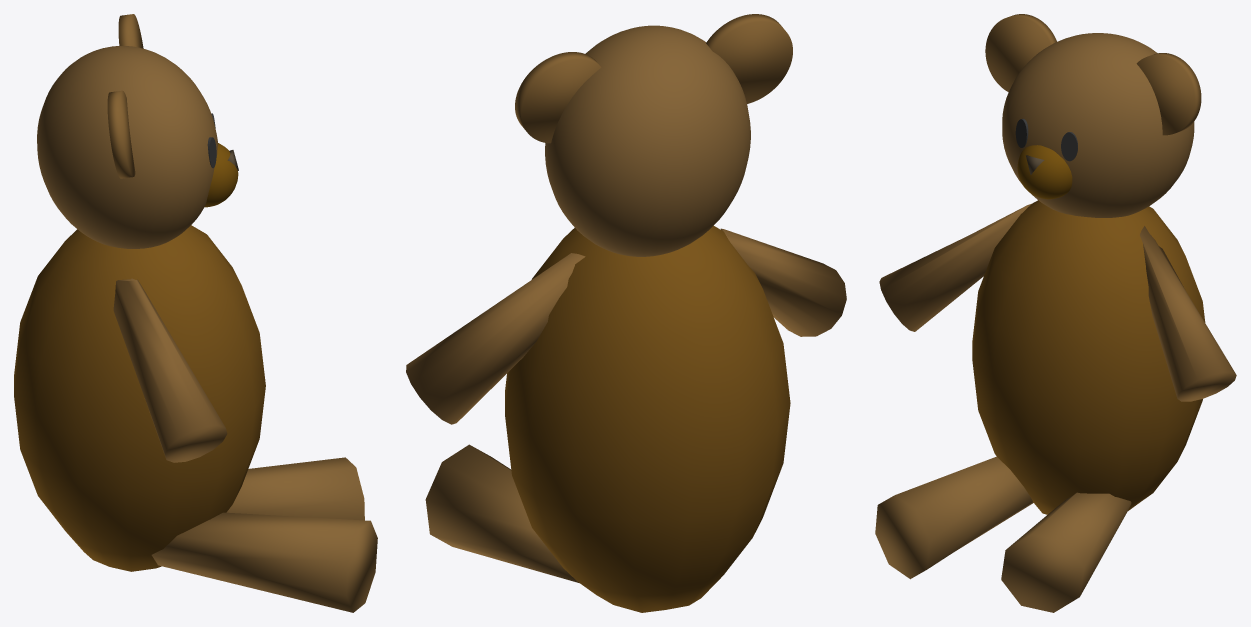
File: mis_.fbx
3 views of the same model, side by side, from view 1: azimuth 30°, elevation 25°; view 2: azimuth 150°, elevation 25°; view 3: azimuth 270°, elevation 25° (orthographic). The views are drawn at different scales.
Parts seen in each view (by area): view 1: Kula, Kula.001, Walec, Walec.001, Walec.002, Kula.002; view 2: Kula, Kula.001, Walec.001, Walec, Walec.002; view 3: Kula, Kula.001, Walec, Walec.001, Walec.002, Kula.002, Walec.004.
Boxes of the visible parts, x1,y1,x2,y2 form: Kula: (14, 225, 265, 571); Kula.001: (37, 46, 218, 248); Walec: (151, 457, 377, 612); Walec.001: (113, 278, 227, 462); Walec.002: (107, 14, 143, 178); Kula.002: (204, 143, 238, 207); Kula: (505, 225, 790, 612); Kula.001: (545, 25, 750, 256); Walec.001: (406, 228, 846, 424); Walec: (425, 444, 578, 582); Walec.002: (515, 14, 792, 143); Kula: (972, 200, 1205, 514); Kula.001: (1002, 33, 1194, 217); Walec: (875, 456, 1131, 612); Walec.001: (879, 203, 1236, 401); Walec.002: (985, 14, 1201, 135); Kula.002: (1017, 145, 1072, 199); Walec.004: (1015, 118, 1077, 161).
Bounding box in the file's own units: 278 × 448 × 303.
